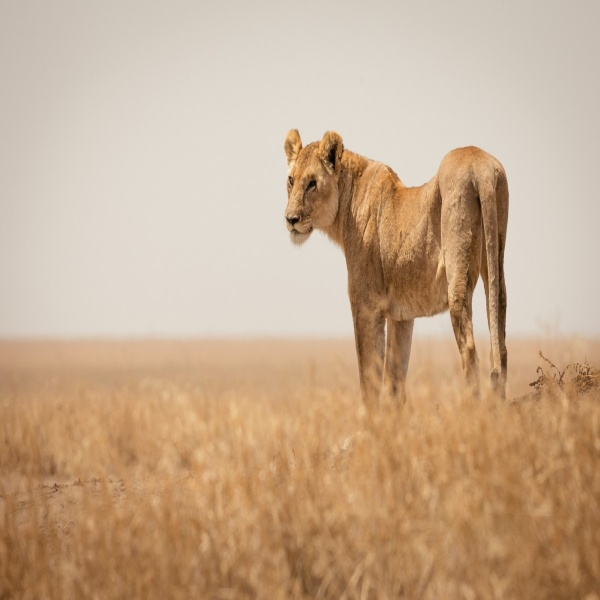Lion: (281, 125, 517, 440)
